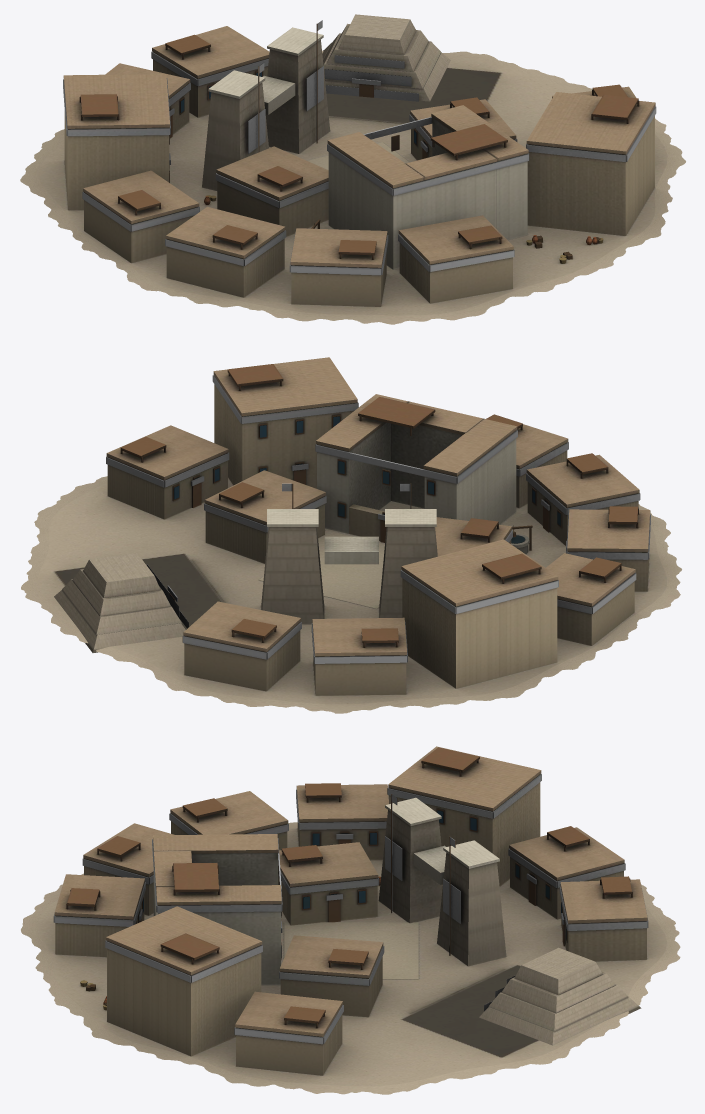
Rendered from bronze-town-medium-a-nile.glb.
The picture shows the model from 3 angles, top to bottom: view 1: azimuth 30°, elevation 25°; view 2: azimuth 150°, elevation 25°; view 3: azimuth 270°, elevation 25°; orthographic projection.
Parts seen in each view (by area): view 1: LOD0; view 2: LOD0; view 3: LOD0.
Boxes of the visible parts, left/top/right/bottom form: LOD0: left=20, top=14, right=685, bottom=324; LOD0: left=21, top=357, right=681, bottom=713; LOD0: left=21, top=746, right=680, bottom=1094.
Size of what is drawn, in the model's own units: 5.93 by 1.2 by 6.04.
3 materials, 3 textured.
